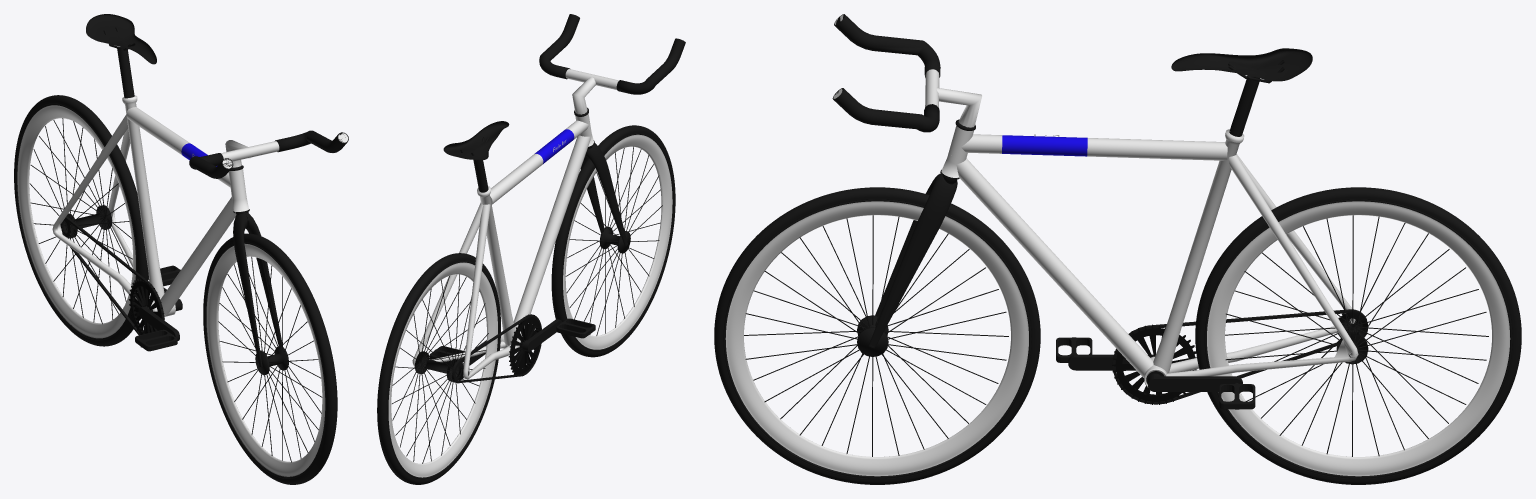
Rendered from fija.glb.
The picture shows the model from 3 angles, left to right: view 1: azimuth 30°, elevation 25°; view 2: azimuth 150°, elevation 25°; view 3: azimuth 270°, elevation 25°; orthographic projection. The views are drawn at different scales.
Visible parts, largest first — view 1: Wheel R; view 2: Wheel R; view 3: Wheel R.
Part boxes in pixels (<box>): Wheel R: <box>14,14,348,484</box>; Wheel R: <box>377,14,685,484</box>; Wheel R: <box>714,14,1521,484</box>.
Bounding box in the file's own units: 0.3753 × 0.9701 × 1.64.
